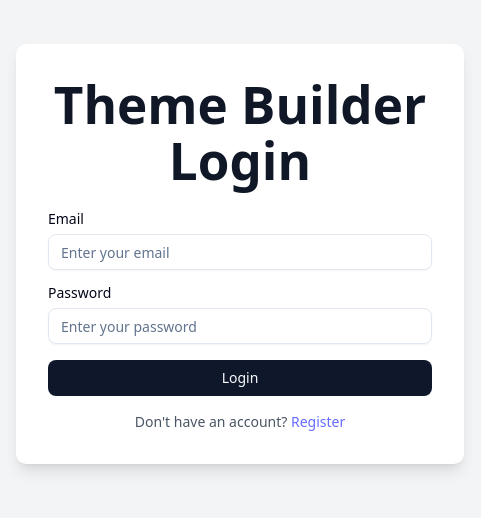
LoginForm › Form Validation › shows error when email is empty
Step 1. Click the button "Login" → [240, 378], box x1=48 y1=360 x2=432 y2=396
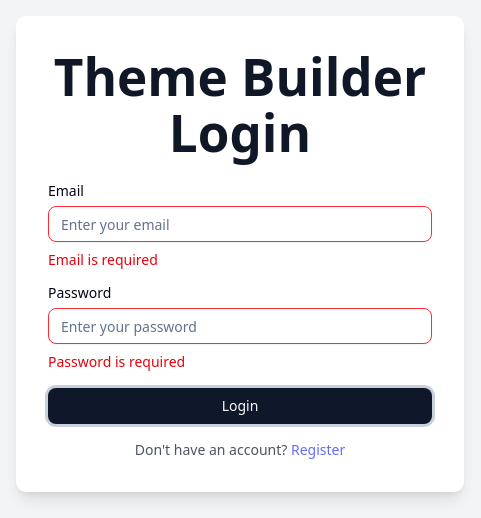
Result: the text "Email is required" is shown at x1=48 y1=250 x2=158 y2=269
